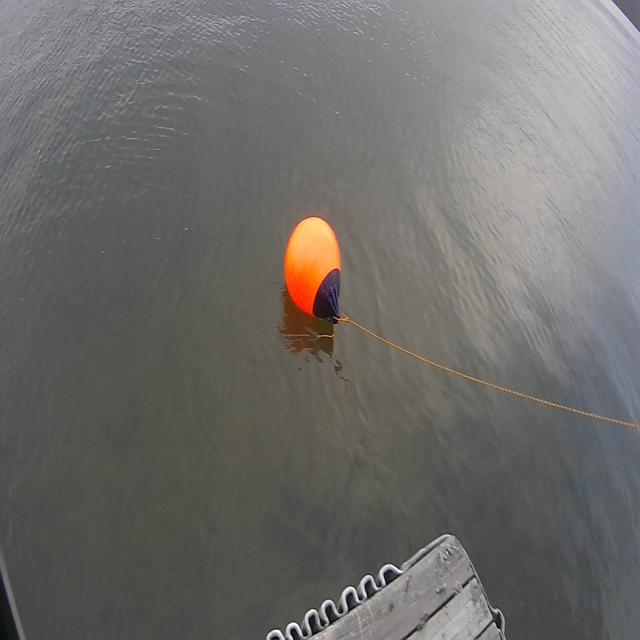Buoy: (282, 210, 344, 328)
